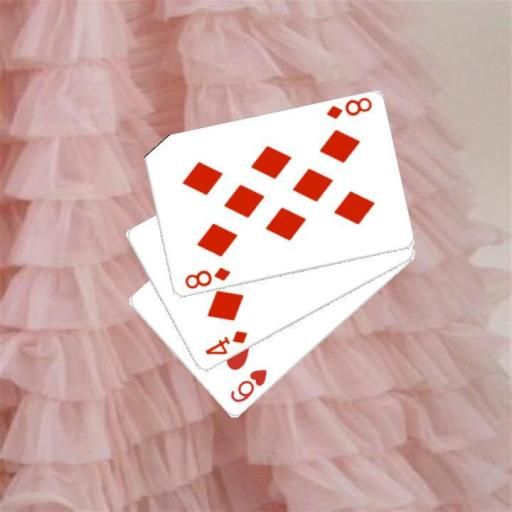4D: (202, 328, 249, 357)
6H: (227, 366, 269, 405)
8D: (181, 264, 232, 291), (323, 94, 373, 121)
